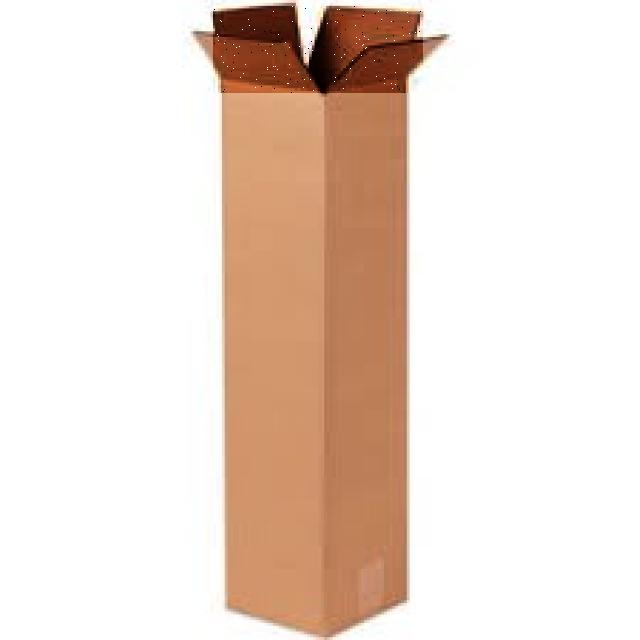tear: (214, 6, 422, 93)
